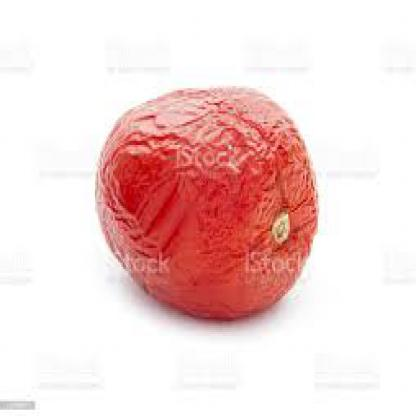Rotten: (74, 61, 342, 353)
